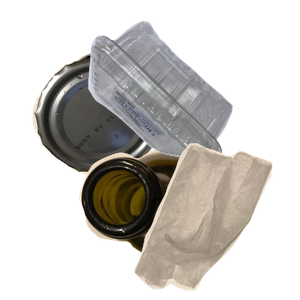glass: (77, 147, 295, 300)
metal: (30, 46, 205, 215)
plastic: (86, 18, 300, 171)
trash: (132, 140, 300, 300)
